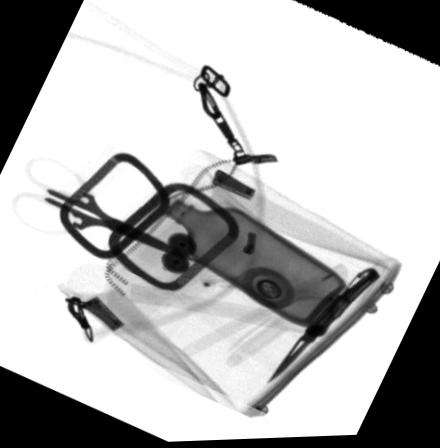Knife: (264, 270, 379, 387)
Scissors: (9, 156, 195, 263)
